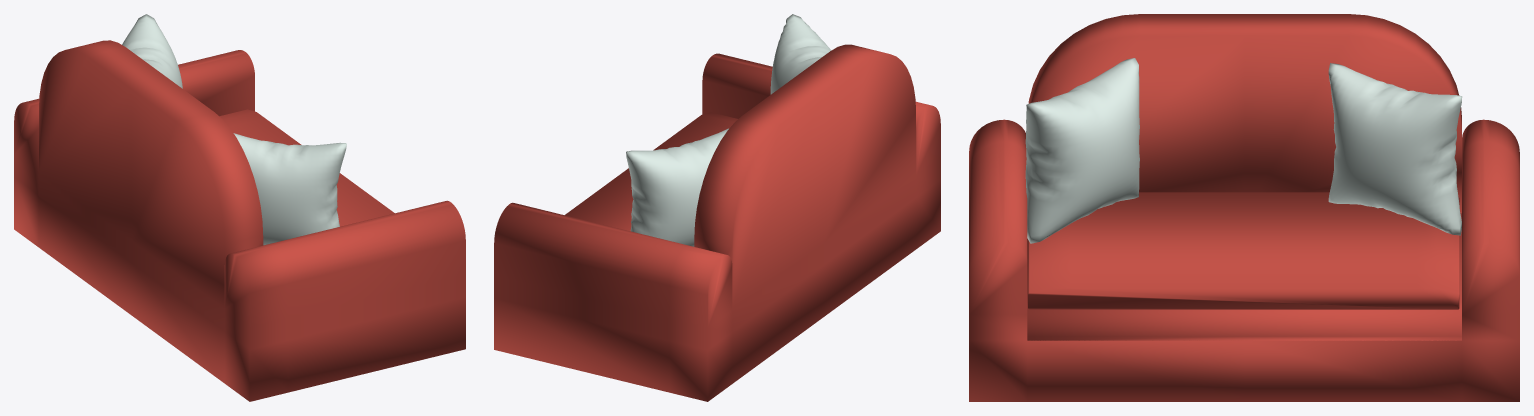
Rendered from Old_Couch.fbx.
3 views of the same model, side by side, from view 1: azimuth 30°, elevation 25°; view 2: azimuth 150°, elevation 25°; view 3: azimuth 270°, elevation 25° (orthographic). The views are drawn at different scales.
Parts seen in each view (by area): view 1: Body; view 2: Body; view 3: Body.
Boxes of the visible parts, <box> form: Body: <box>14,14,465,401</box>; Body: <box>494,14,940,401</box>; Body: <box>969,14,1519,401</box>.
Size of the model in its own units: 773 by 775 by 1461.
